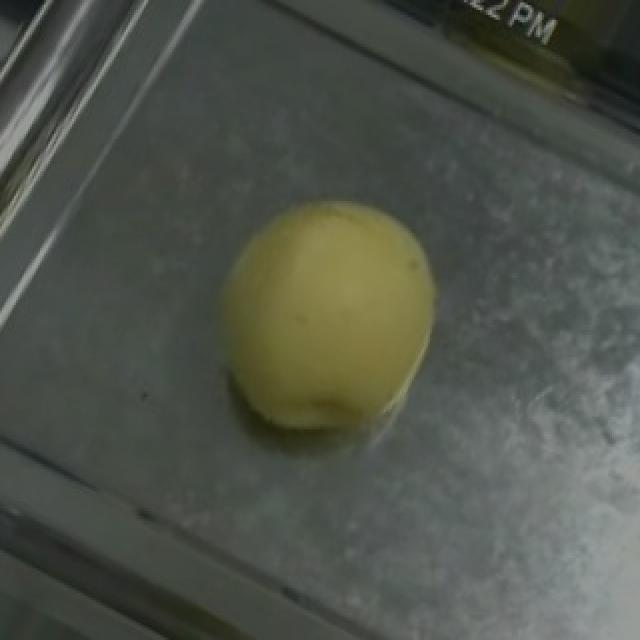Fruit: (168, 154, 488, 476)
